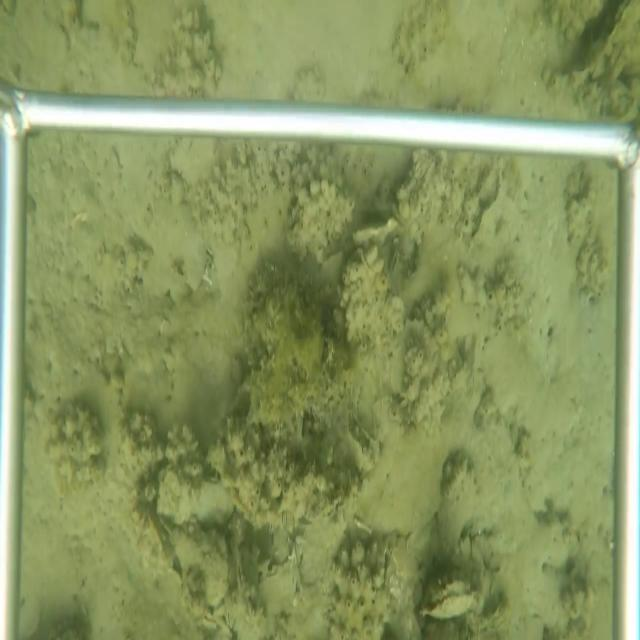Oyster-Closed: (165, 525, 231, 608), (155, 461, 237, 527), (465, 169, 515, 245), (415, 568, 477, 610), (415, 588, 485, 620)
